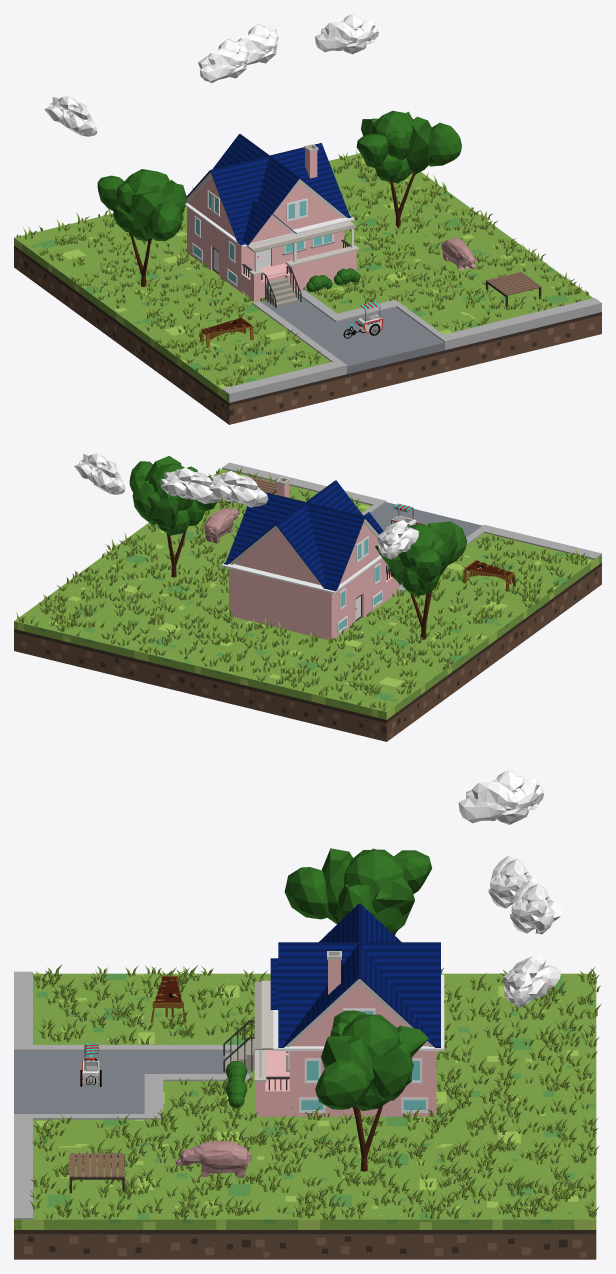
3 renders of one model, top to bottom at view 1: azimuth 30°, elevation 25°; view 2: azimuth 150°, elevation 25°; view 3: azimuth 270°, elevation 25°, orthographic. The views are drawn at different scales.
Visible parts, largest first — view 1: Cube.006, Cube.313, Circle.012_Grass_0.192, Cube.007, tree, tree.001, Cube.009, ANIMAL_HIPOPOTAMO, OBJRANDOM_MARIMBA, VEHICLES_SNOWBAL_BIKE; view 2: Cube.006, Cube.313, Circle.012_Grass_0.192, Cube.007, tree.001, tree, ANIMAL_HIPOPOTAMO, OBJRANDOM_MARIMBA; view 3: Cube.006, Circle.012_Grass_0.192, Cube.313, tree, Cube.007, tree.001, ANIMAL_HIPOPOTAMO, Cube.009, OBJRANDOM_MARIMBA, VEHICLES_SNOWBAL_BIKE.
Boxes of the visible parts, <box> form: Cube.006: <box>14,153,601,424</box>; Cube.313: <box>185,134,359,308</box>; Circle.012_Grass_0.192: <box>16,150,588,386</box>; Cube.007: <box>44,14,378,136</box>; tree: <box>356,110,461,228</box>; tree.001: <box>97,169,186,286</box>; Cube.009: <box>486,272,541,306</box>; ANIMAL_HIPOPOTAMO: <box>441,238,476,270</box>; OBJRANDOM_MARIMBA: <box>200,316,253,347</box>; VEHICLES_SNOWBAL_BIKE: <box>343,301,383,338</box>; Cube.006: <box>14,462,601,741</box>; Cube.313: <box>221,477,398,640</box>; Circle.012_Grass_0.192: <box>16,468,588,711</box>; Cube.007: <box>74,453,418,559</box>; tree.001: <box>375,521,467,639</box>; tree: <box>129,456,216,577</box>; ANIMAL_HIPOPOTAMO: <box>204,508,239,543</box>; OBJRANDOM_MARIMBA: <box>463,560,515,591</box>; Cube.006: <box>14,971,596,1259</box>; Circle.012_Grass_0.192: <box>29,964,601,1220</box>; Cube.313: <box>223,903,444,1116</box>; tree: <box>315,1010,428,1171</box>; Cube.007: <box>458,770,561,1007</box>; tree.001: <box>284,848,432,935</box>; ANIMAL_HIPOPOTAMO: <box>175,1141,251,1177</box>; Cube.009: <box>69,1153,124,1193</box>; OBJRANDOM_MARIMBA: <box>151,976,186,1023</box>; VEHICLES_SNOWBAL_BIKE: <box>80,1043,102,1086</box>.
Bounding box in the file's own units: 4071 × 2176 × 4040.
41 materials, 3 textured.
